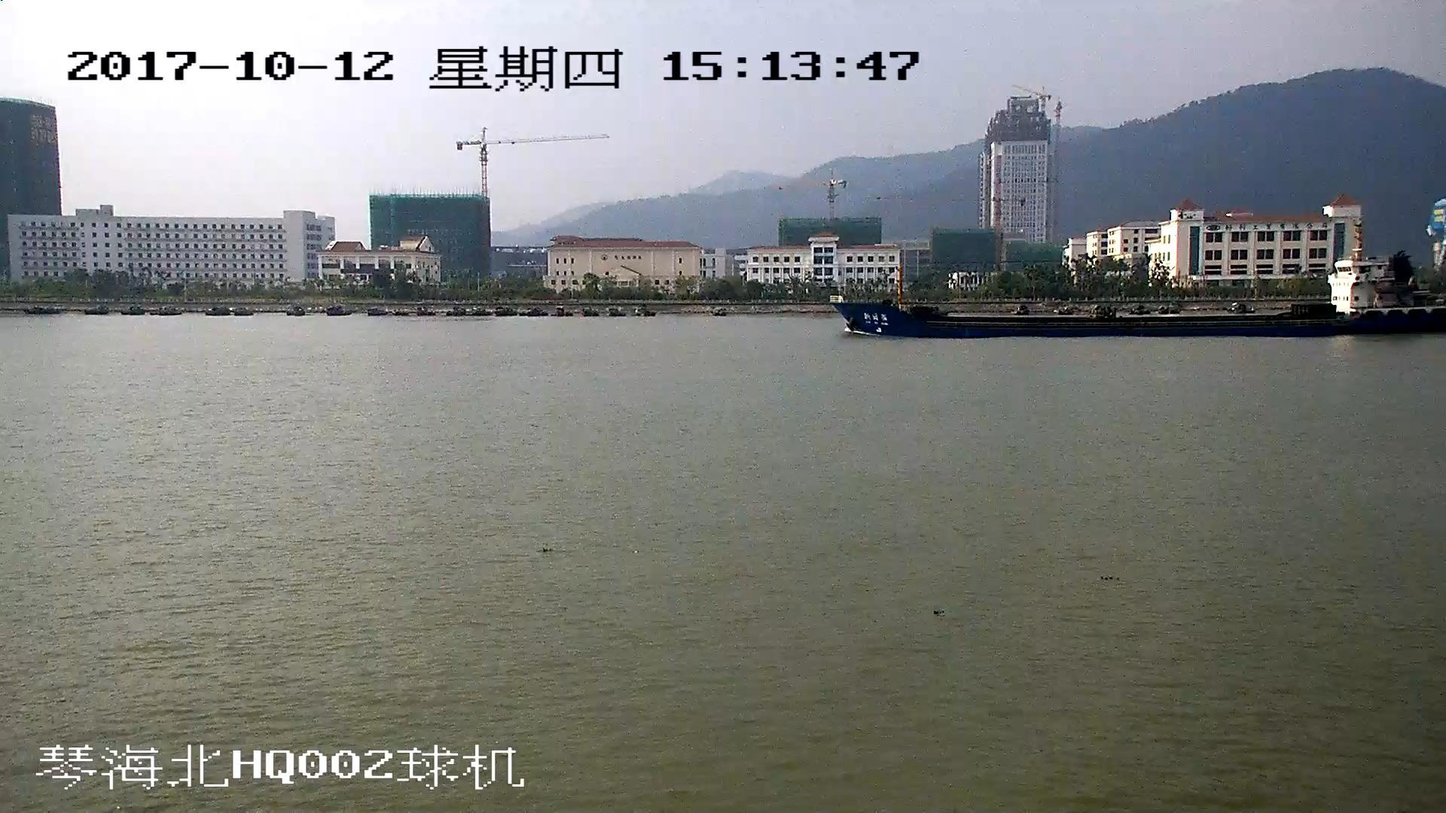general cargo ship: (831, 246, 1445, 334)
